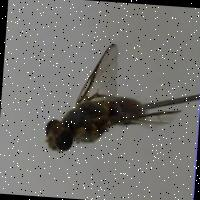Oriental-fruit-fly: (29, 31, 181, 164)
